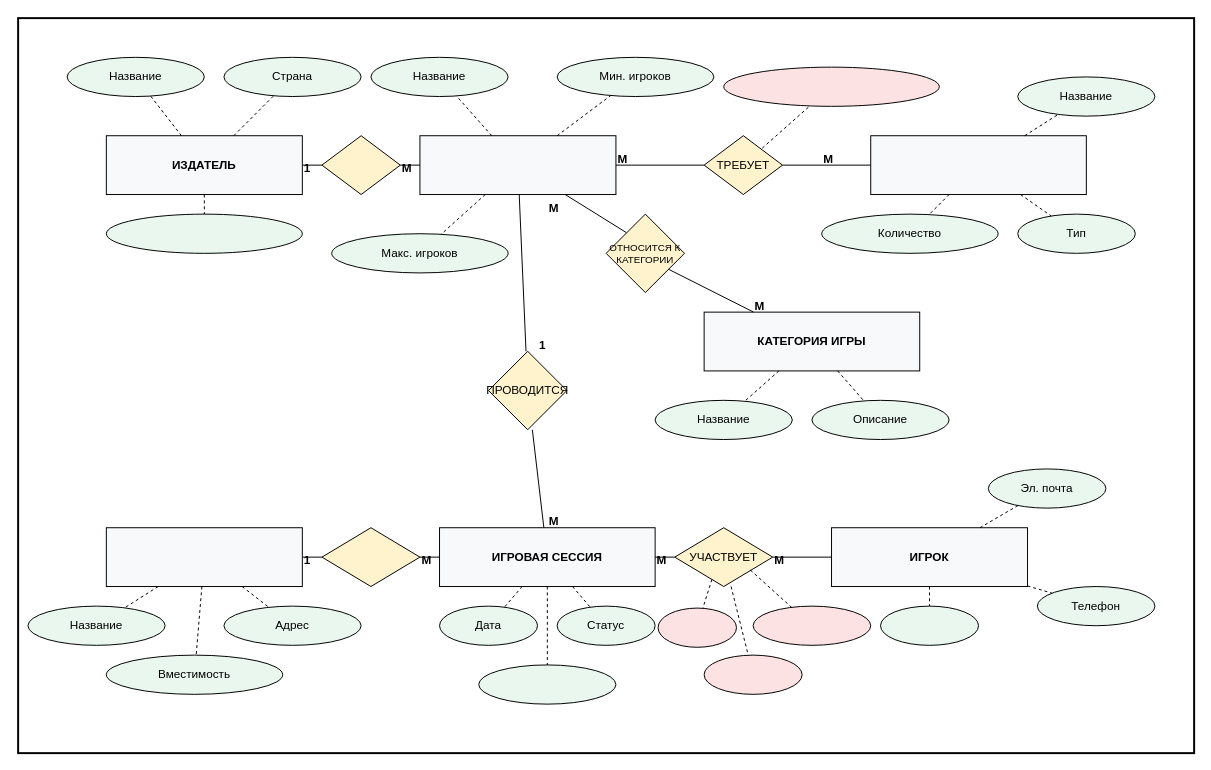
This 1211x770 diagram has some shape labels left out. Here are the shapes that lost their labels. From the top down, the box of each, then its label:
(723, 66, 939, 106): Требуемое количество
(321, 135, 400, 195): ИЗДАЕТ
(419, 135, 616, 195): ИГРА
(870, 135, 1086, 195): ОБОРУДОВАНИЕ
(105, 213, 302, 253): Год основания
(105, 527, 302, 587): ПЛОЩАДКА
(321, 527, 420, 587): ПРОХОДИТ НА
(657, 607, 736, 647): Очки
(752, 605, 871, 645): Победитель
(880, 605, 979, 645): Имя
(478, 664, 616, 704): Организатор
(703, 654, 802, 694): Место
